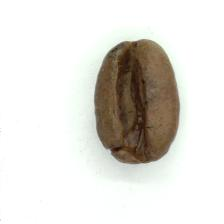NG: (107, 48, 152, 158)
